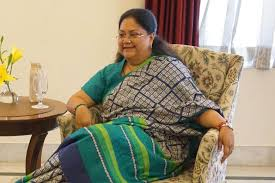indian_female: (101, 1, 158, 78)
